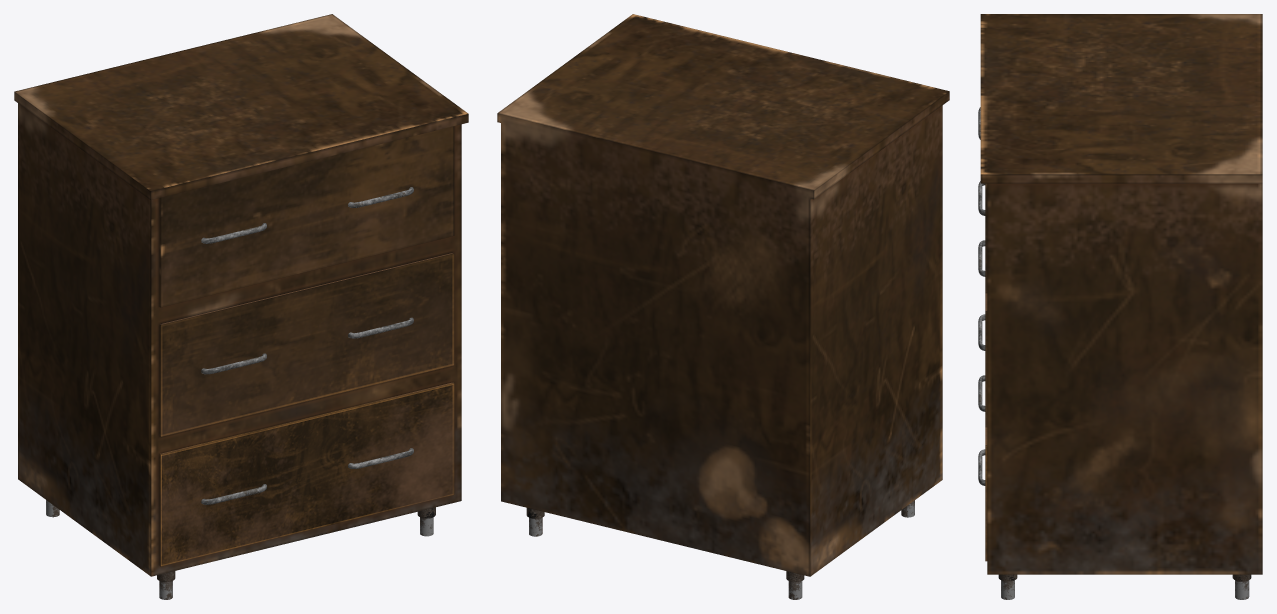
Rendered from drawer__game_ready_asset__pbr.glb.
3 views of the same model, side by side, from view 1: azimuth 30°, elevation 25°; view 2: azimuth 150°, elevation 25°; view 3: azimuth 270°, elevation 25° (orthographic). The views are drawn at different scales.
Parts seen in each view (by area): view 1: Drawer_LOD0.001; view 2: Drawer_LOD0.001; view 3: Drawer_LOD0.001.
Boxes of the visible parts, left/top/right/bottom form: Drawer_LOD0.001: left=14, top=14, right=468, bottom=599; Drawer_LOD0.001: left=497, top=14, right=949, bottom=599; Drawer_LOD0.001: left=978, top=14, right=1262, bottom=599.
Size of the model in its own units: 3.74 by 4.75 by 2.8.
Materials: 1 (1 with a texture image).
